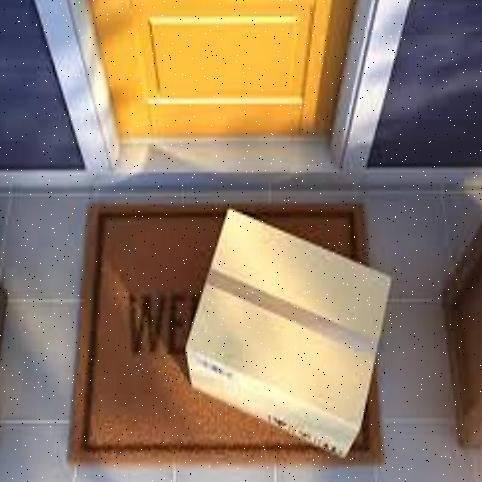Other: (181, 207, 399, 464)
